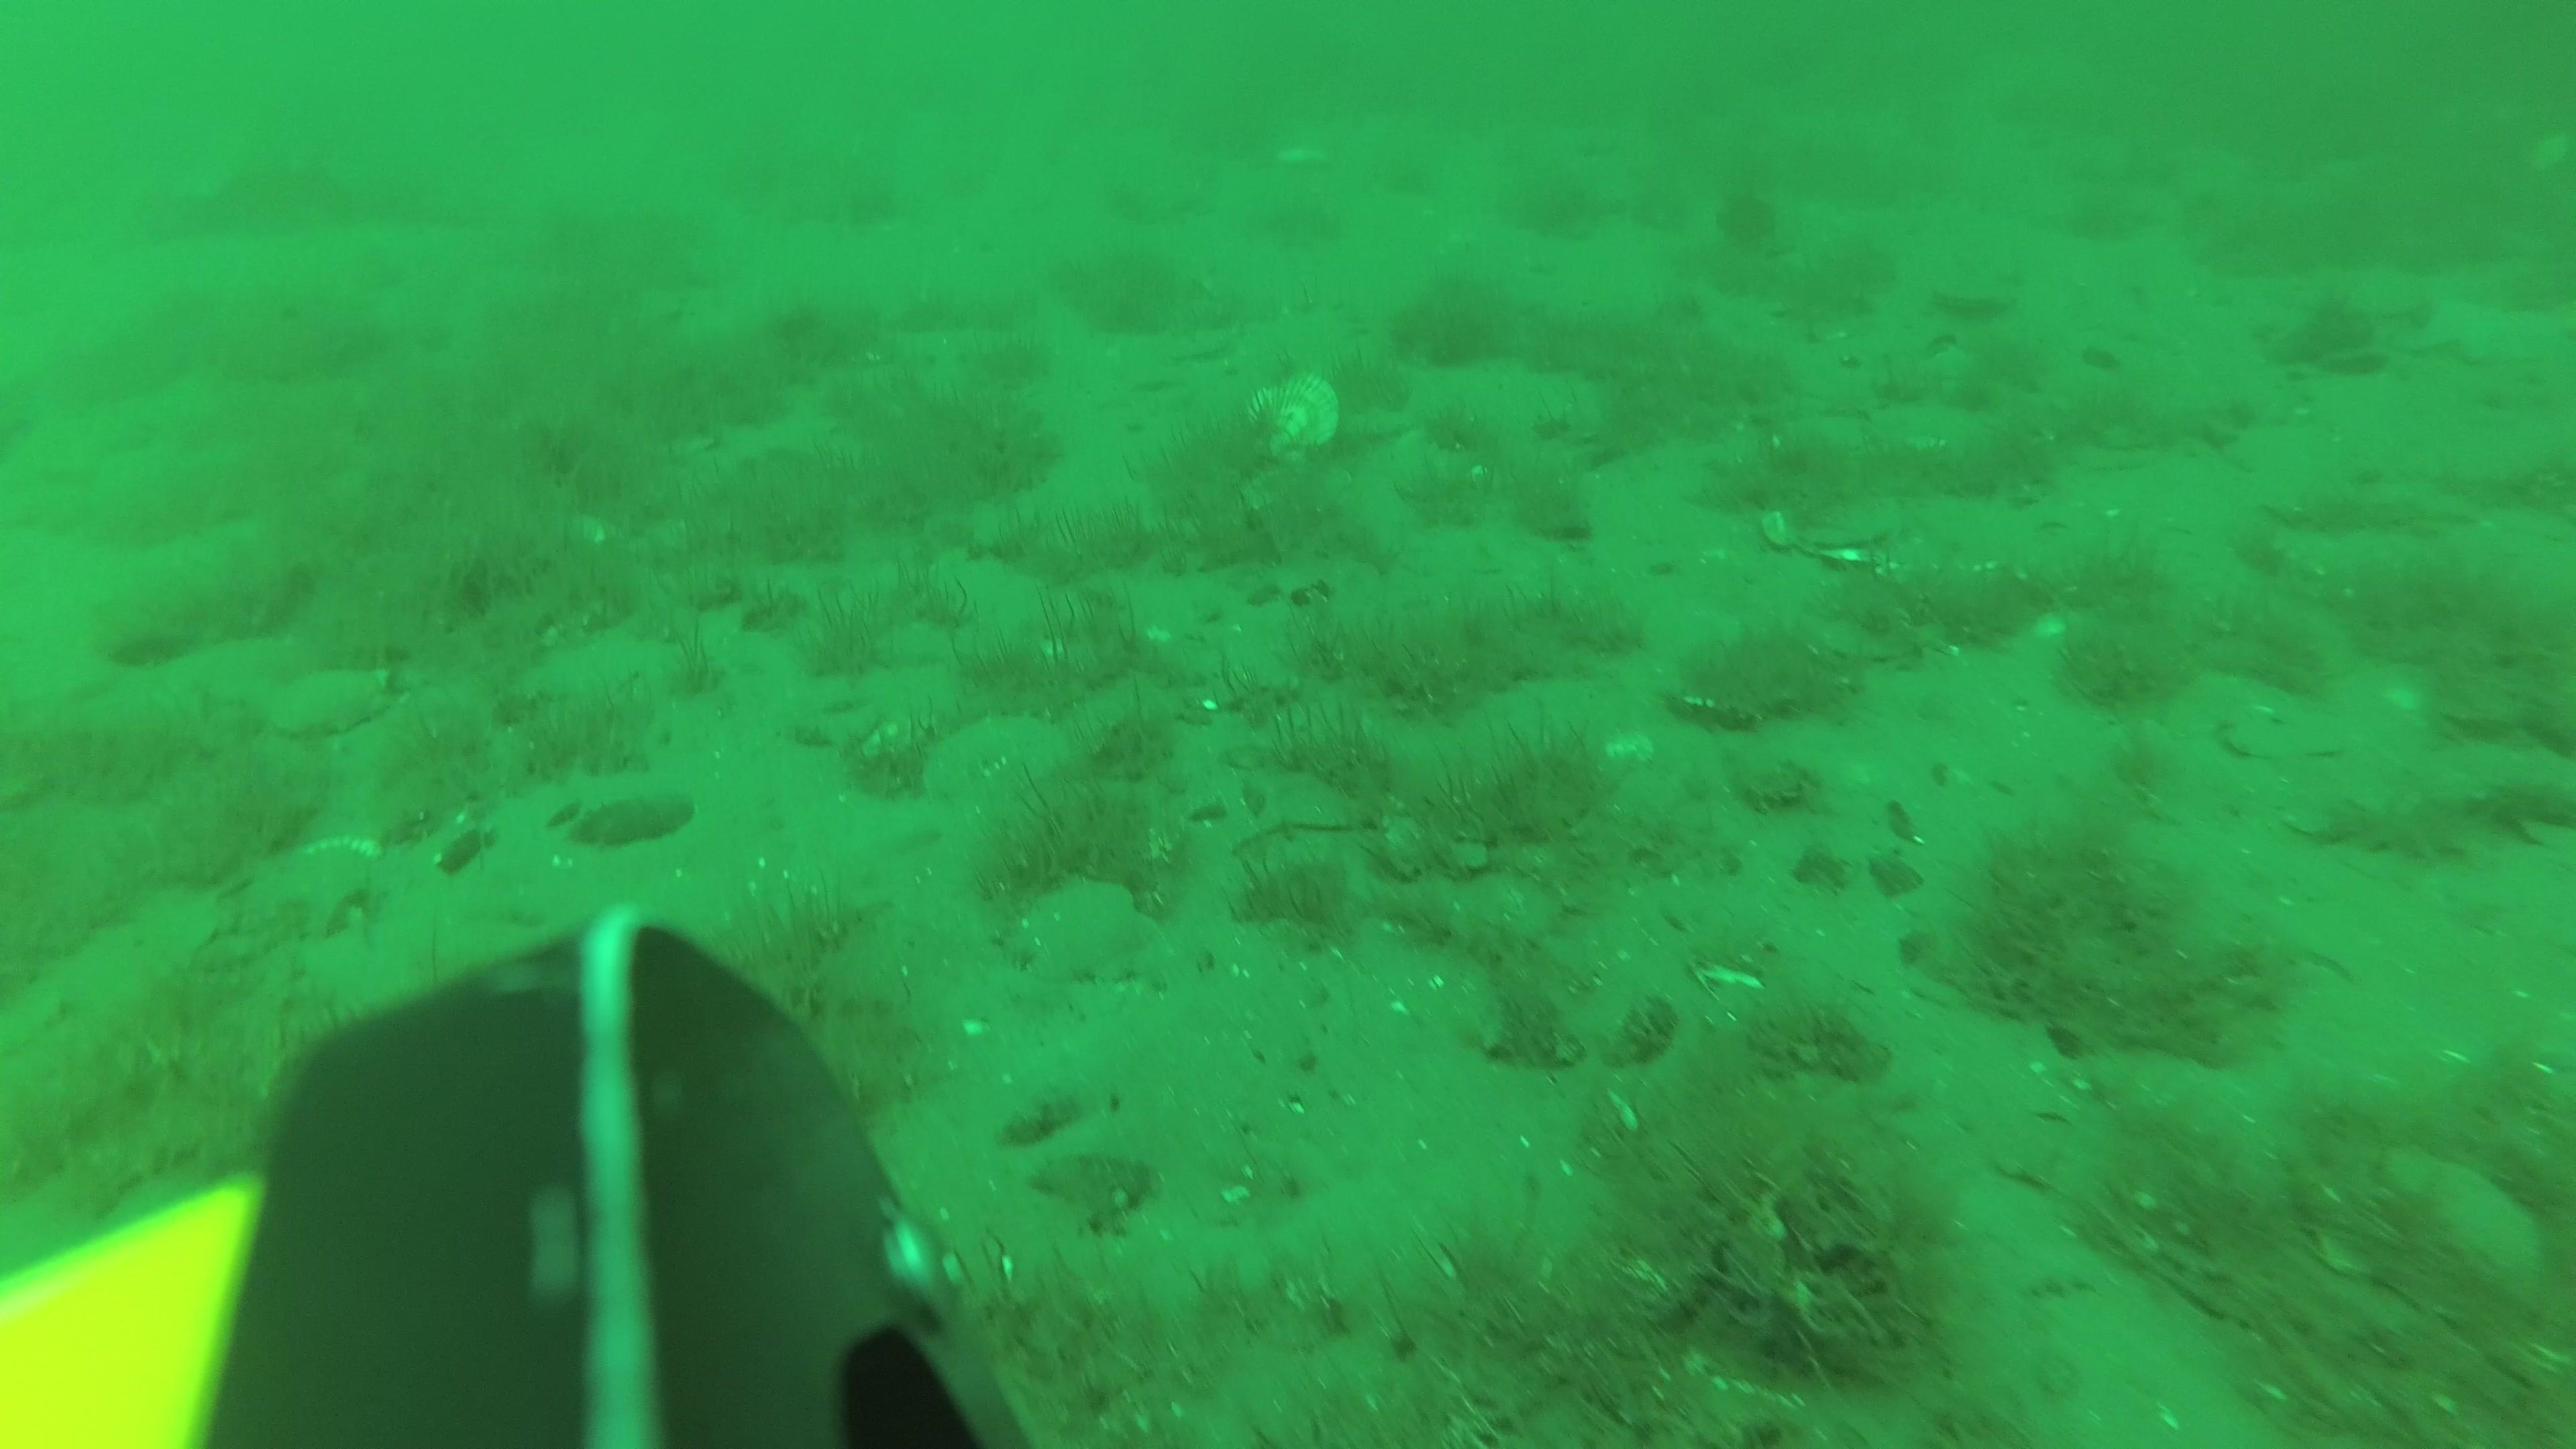scallop: (998, 878, 1161, 975), (1769, 487, 1907, 564), (272, 665, 402, 732), (1254, 375, 1341, 460)
